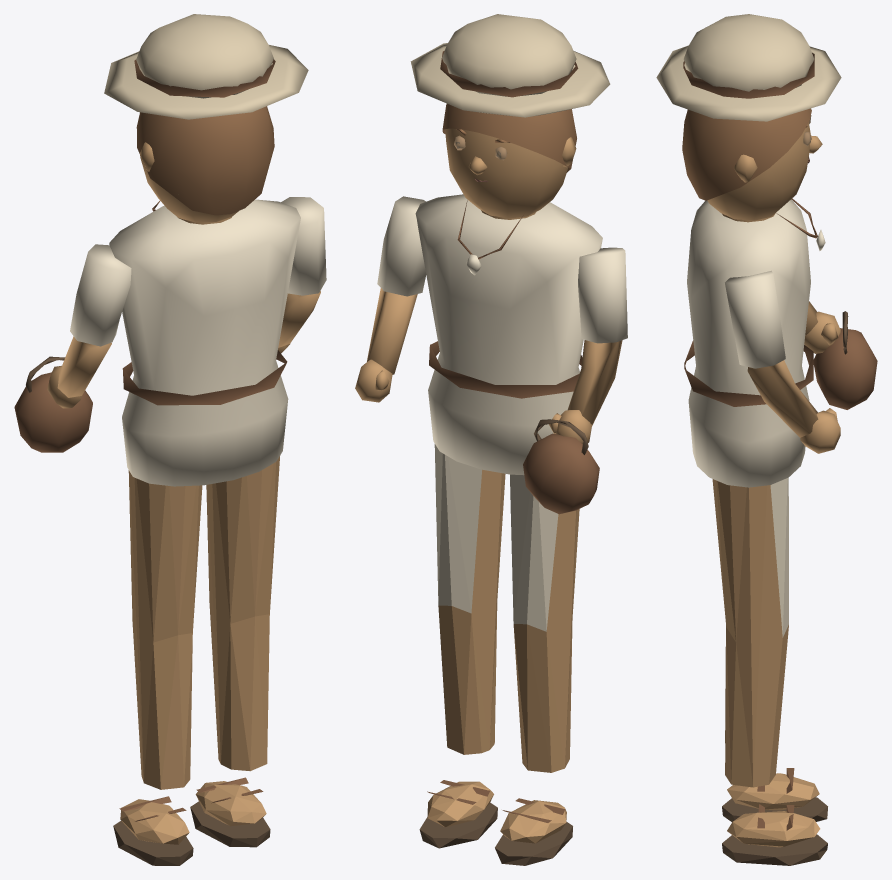
Rendered from SM_NPC_CONCHA_MEDIA.glb.
The picture shows the model from 3 angles, left to right: view 1: azimuth 30°, elevation 25°; view 2: azimuth 150°, elevation 25°; view 3: azimuth 270°, elevation 25°; orthographic projection. The views are drawn at different scales.
Parts seen in each view (by area): view 1: SM_NPC_CONCHA_BODY, SM_NPC_CONCHA_HEAD, SM_NPC_CONCHA_ARM_L, SM_NPC_CONCHA_ARM_R; view 2: SM_NPC_CONCHA_BODY, SM_NPC_CONCHA_HEAD, SM_NPC_CONCHA_ARM_L, SM_NPC_CONCHA_ARM_R; view 3: SM_NPC_CONCHA_BODY, SM_NPC_CONCHA_HEAD, SM_NPC_CONCHA_ARM_R, SM_NPC_CONCHA_ARM_L.
Part boxes in pixels (x1=…): SM_NPC_CONCHA_BODY: x1=109, y1=199, x2=300, y2=865; SM_NPC_CONCHA_HEAD: x1=104, y1=14, x2=308, y2=222; SM_NPC_CONCHA_ARM_L: x1=14, y1=244, x2=131, y2=452; SM_NPC_CONCHA_ARM_R: x1=278, y1=197, x2=326, y2=353; SM_NPC_CONCHA_BODY: x1=415, y1=194, x2=602, y2=865; SM_NPC_CONCHA_HEAD: x1=410, y1=14, x2=610, y2=218; SM_NPC_CONCHA_ARM_L: x1=523, y1=247, x2=627, y2=514; SM_NPC_CONCHA_ARM_R: x1=355, y1=196, x2=426, y2=402; SM_NPC_CONCHA_BODY: x1=684, y1=198, x2=827, y2=865; SM_NPC_CONCHA_HEAD: x1=656, y1=14, x2=841, y2=220; SM_NPC_CONCHA_ARM_R: x1=725, y1=270, x2=840, y2=453; SM_NPC_CONCHA_ARM_L: x1=804, y1=301, x2=877, y2=409.
Size of the model in its own units: 0.6302 by 1.89 by 0.4669.
